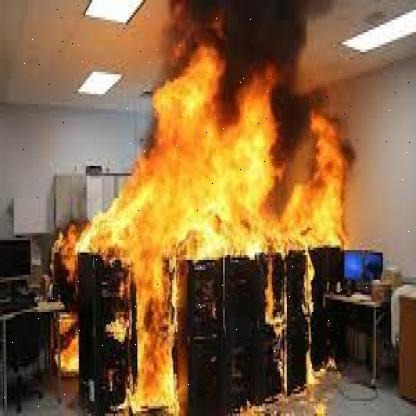fire: (74, 50, 351, 416)
smoke: (161, 0, 330, 203)
